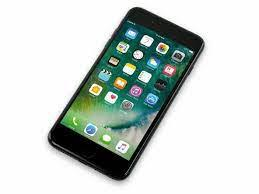Smartphone: (55, 19, 210, 176)
